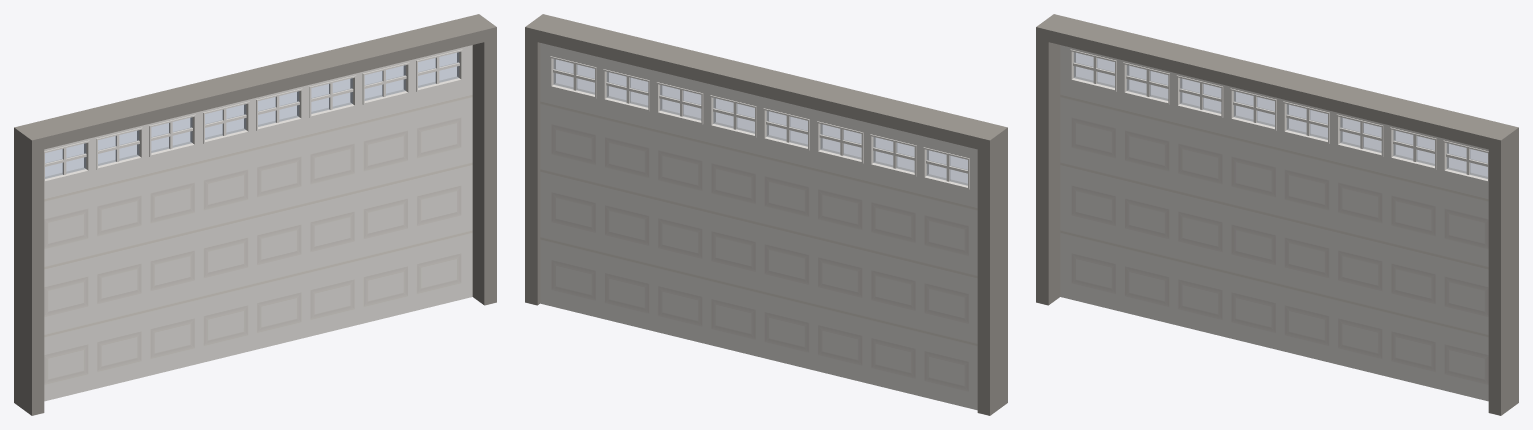
Rendered from garage-door.obj.
3 views of the same model, side by side, from view 1: azimuth 30°, elevation 25°; view 2: azimuth 150°, elevation 25°; view 3: azimuth 330°, elevation 25° (orthographic).
Visible parts, largest first — view 1: Cube, Cube.001_Cube.004, glass_Cube.003; view 2: Cube, Cube.001_Cube.004, glass_Cube.003; view 3: Cube, Cube.001_Cube.004, glass_Cube.003.
Part boxes in pixels (bbox=[...]): Cube: bbox=[44, 45, 472, 401]; Cube.001_Cube.004: bbox=[14, 14, 496, 415]; glass_Cube.003: bbox=[45, 52, 458, 178]; Cube: bbox=[540, 43, 977, 410]; Cube.001_Cube.004: bbox=[525, 14, 1007, 415]; glass_Cube.003: bbox=[554, 59, 967, 185]; Cube: bbox=[1060, 45, 1488, 401]; Cube.001_Cube.004: bbox=[1036, 14, 1518, 415]; glass_Cube.003: bbox=[1074, 52, 1487, 178].
Bounding box in the file's own units: 391 × 221 × 26.
4 materials, 2 textured.
